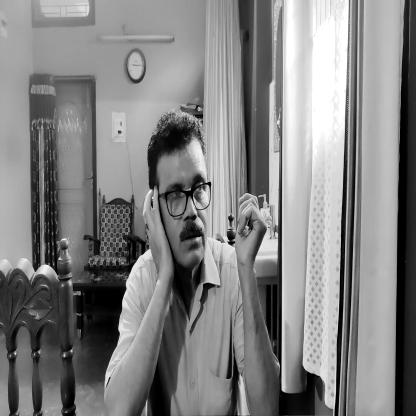Distracted: (147, 108, 215, 272)
